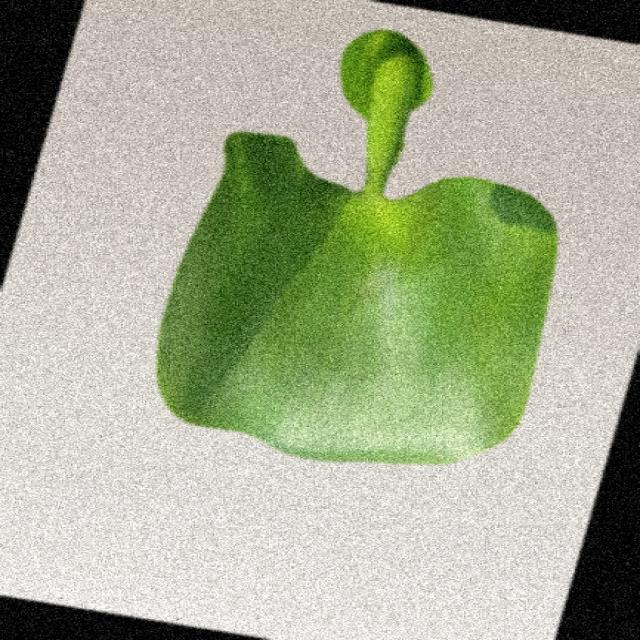daun sehat: (159, 31, 557, 464)
